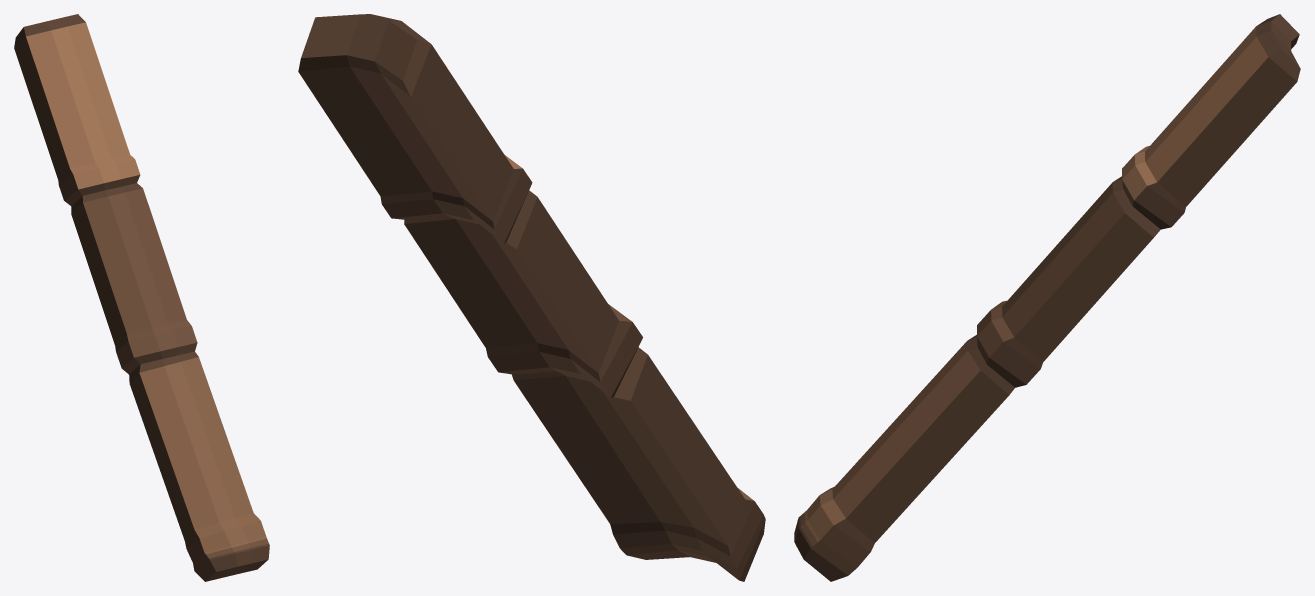
Rendered from SM_Bld_Roof_Manor_Trim_Quarter_01.fbx.
3 views of the same model, side by side, from view 1: azimuth 30°, elevation 25°; view 2: azimuth 150°, elevation 25°; view 3: azimuth 270°, elevation 25° (orthographic). The views are drawn at different scales.
Parts seen in each view (by area): view 1: SM_Bld_Roof_Manor_Trim_Quarter_01; view 2: SM_Bld_Roof_Manor_Trim_Quarter_01; view 3: SM_Bld_Roof_Manor_Trim_Quarter_01.
Boxes of the visible parts, <box> form: SM_Bld_Roof_Manor_Trim_Quarter_01: <box>14,14,269,581</box>; SM_Bld_Roof_Manor_Trim_Quarter_01: <box>298,14,765,581</box>; SM_Bld_Roof_Manor_Trim_Quarter_01: <box>794,14,1300,581</box>.
Size of the model in its own units: 27.7 by 173 by 148.
